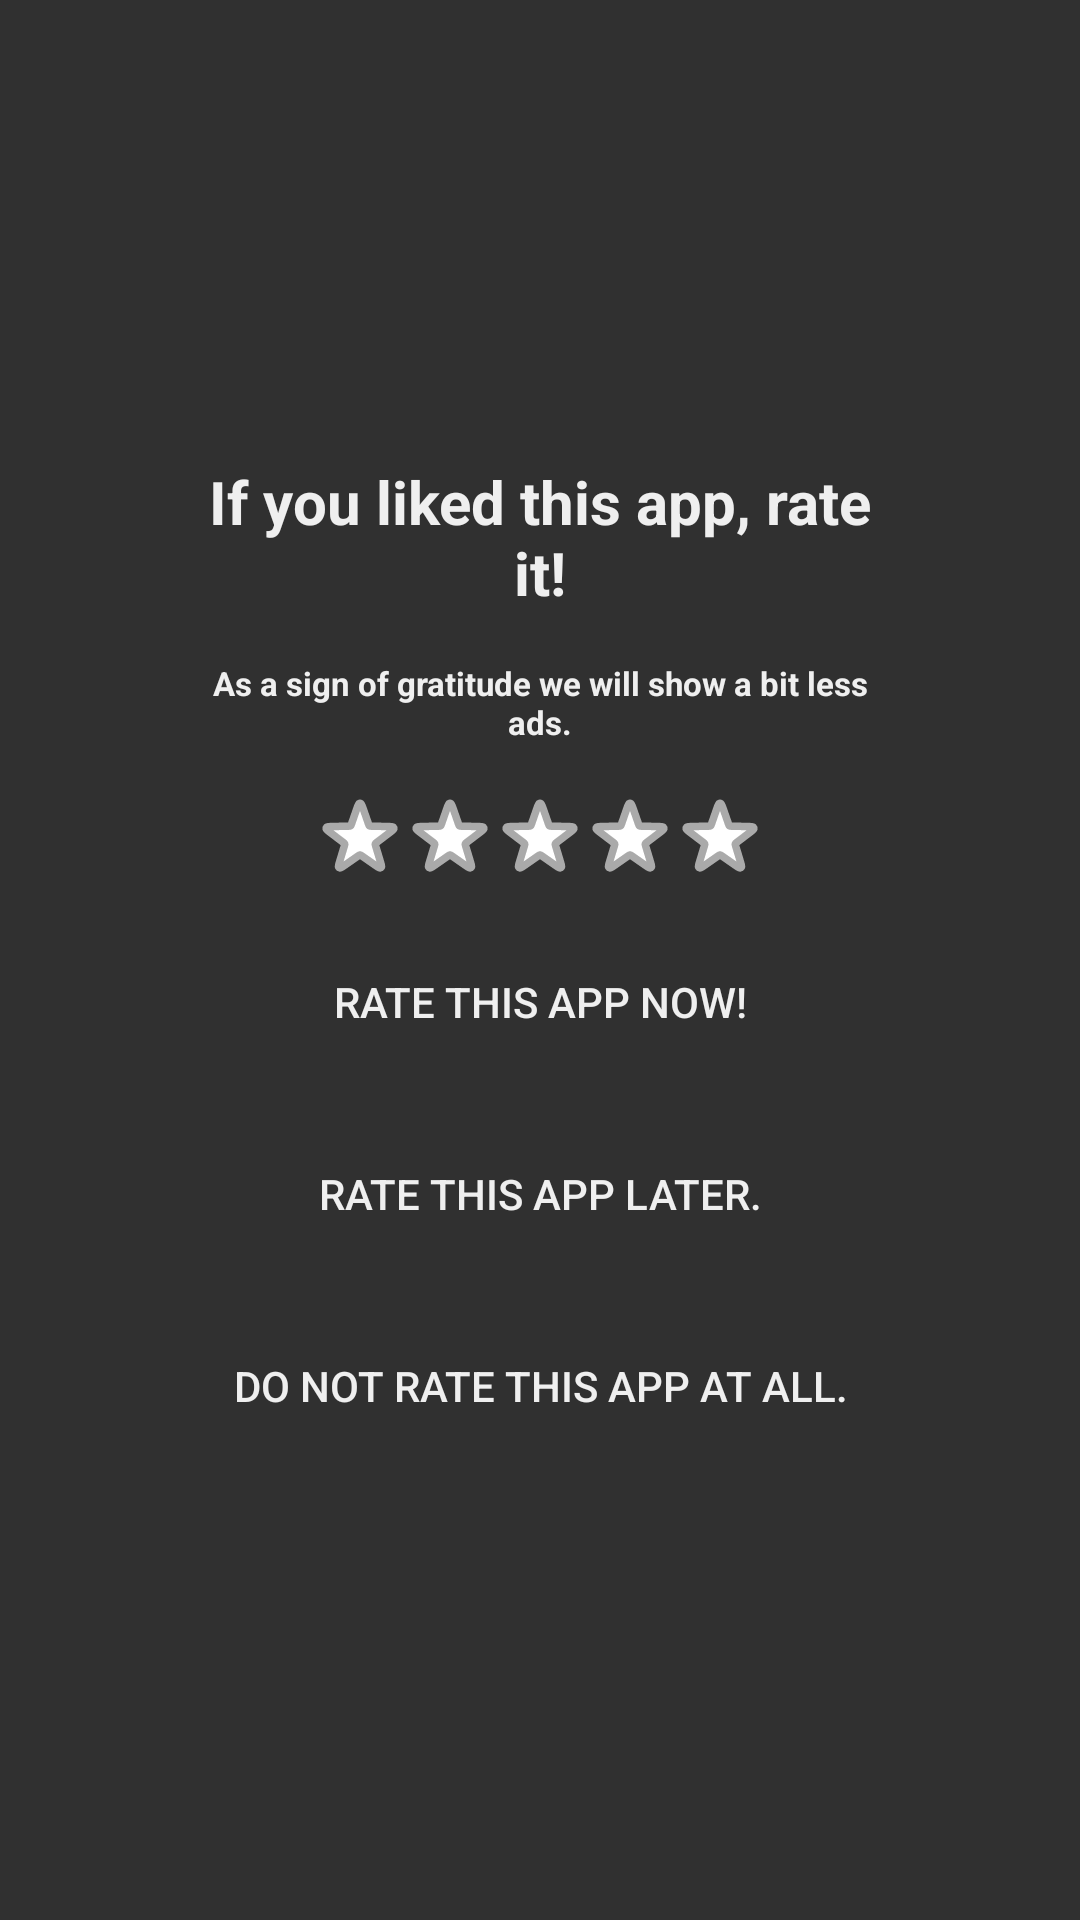

Named icons in this screenshot (1080x1920) and their bounding boxes, box=[x1, y1, x2, y2]:
star: box=[322, 799, 398, 872], box=[412, 799, 488, 872], box=[502, 799, 578, 872], box=[592, 799, 668, 872], box=[682, 799, 758, 872]
